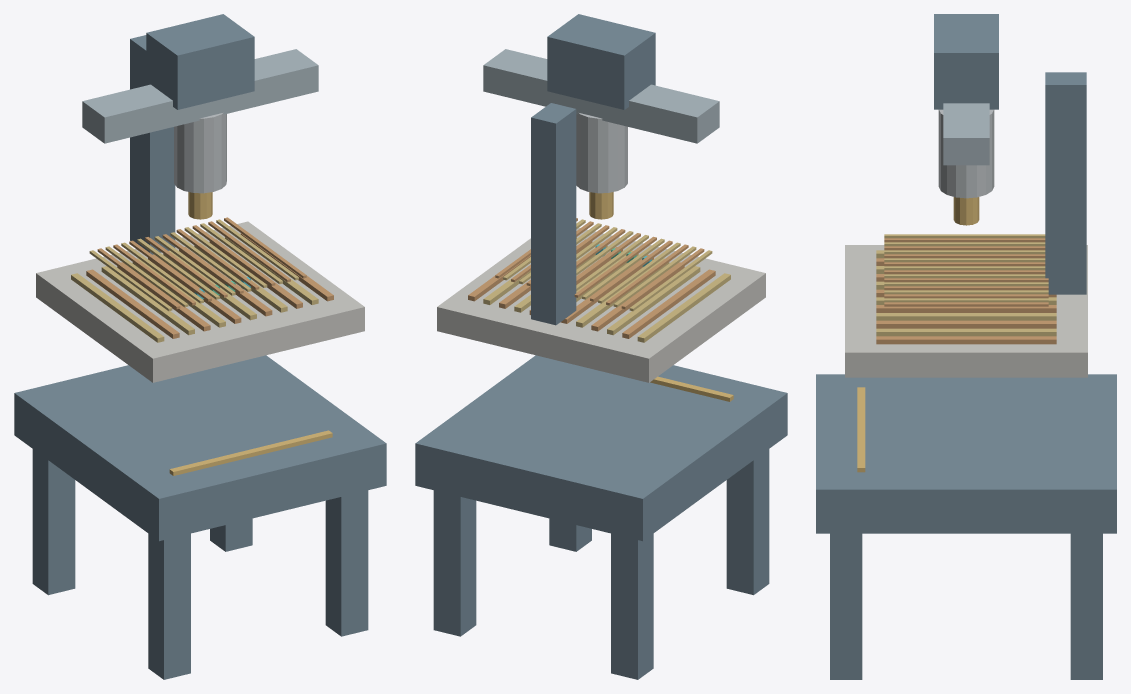
File: 50_L78_InterlineCombTestFixture.glb
3 views of the same model, side by side, from view 1: azimuth 30°, elevation 25°; view 2: azimuth 150°, elevation 25°; view 3: azimuth 270°, elevation 25° (orthographic). The views are drawn at different scales.
Parts seen in each view (by area): view 1: InterlineCombTestFixture_Node_0000, InterlineCombTestFixture_Node_0006, InterlineCombTestFixture_Node_0041, InterlineCombTestFixture_Node_0020, InterlineCombTestFixture_Node_0004, InterlineCombTestFixture_Node_0002, InterlineCombTestFixture_Node_0019, InterlineCombTestFixture_Node_0001, InterlineCombTestFixture_Node_0021, InterlineCombTestFixture_Node_0005, InterlineCombTestFixture_Node_0003, InterlineCombTestFixture_Node_0007 (+10 smaller); view 2: InterlineCombTestFixture_Node_0000, InterlineCombTestFixture_Node_0006, InterlineCombTestFixture_Node_0019, InterlineCombTestFixture_Node_0041, InterlineCombTestFixture_Node_0020, InterlineCombTestFixture_Node_0003, InterlineCombTestFixture_Node_0001, InterlineCombTestFixture_Node_0002, InterlineCombTestFixture_Node_0021, InterlineCombTestFixture_Node_0004, InterlineCombTestFixture_Node_0007, InterlineCombTestFixture_Node_0008 (+5 smaller); view 3: InterlineCombTestFixture_Node_0000, InterlineCombTestFixture_Node_0006, InterlineCombTestFixture_Node_0019, InterlineCombTestFixture_Node_0041, InterlineCombTestFixture_Node_0003, InterlineCombTestFixture_Node_0004, InterlineCombTestFixture_Node_0020, InterlineCombTestFixture_Node_0021, InterlineCombTestFixture_Node_0016, InterlineCombTestFixture_Node_0017, InterlineCombTestFixture_Node_0018, InterlineCombTestFixture_Node_0015 (+21 smaller).
Boxes of the visible parts, <box> form: InterlineCombTestFixture_Node_0000: <box>14,355,386,541</box>; InterlineCombTestFixture_Node_0006: <box>36,221,364,382</box>; InterlineCombTestFixture_Node_0041: <box>146,14,254,109</box>; InterlineCombTestFixture_Node_0020: <box>82,49,318,143</box>; InterlineCombTestFixture_Node_0004: <box>325,490,368,636</box>; InterlineCombTestFixture_Node_0002: <box>148,533,190,679</box>; InterlineCombTestFixture_Node_0019: <box>130,35,175,254</box>; InterlineCombTestFixture_Node_0001: <box>32,449,75,595</box>; InterlineCombTestFixture_Node_0021: <box>174,112,226,193</box>; InterlineCombTestFixture_Node_0005: <box>169,430,332,475</box>; InterlineCombTestFixture_Node_0003: <box>210,518,252,551</box>; InterlineCombTestFixture_Node_0007: <box>71,273,164,342</box>; InterlineCombTestFixture_Node_0000: <box>415,355,787,541</box>; InterlineCombTestFixture_Node_0006: <box>437,227,765,382</box>; InterlineCombTestFixture_Node_0019: <box>531,103,576,325</box>; InterlineCombTestFixture_Node_0041: <box>547,14,655,109</box>; InterlineCombTestFixture_Node_0020: <box>483,49,719,143</box>; InterlineCombTestFixture_Node_0003: <box>433,490,476,636</box>; InterlineCombTestFixture_Node_0001: <box>611,533,653,679</box>; InterlineCombTestFixture_Node_0002: <box>726,449,769,595</box>; InterlineCombTestFixture_Node_0021: <box>576,112,627,193</box>; InterlineCombTestFixture_Node_0004: <box>549,518,591,551</box>; InterlineCombTestFixture_Node_0007: <box>637,273,730,342</box>; InterlineCombTestFixture_Node_0008: <box>622,269,715,338</box>; InterlineCombTestFixture_Node_0000: <box>816,374,1116,533</box>; InterlineCombTestFixture_Node_0006: <box>845,245,1087,377</box>; InterlineCombTestFixture_Node_0019: <box>1045,72,1086,294</box>; InterlineCombTestFixture_Node_0041: <box>934,14,998,109</box>; InterlineCombTestFixture_Node_0003: <box>1070,533,1102,679</box>; InterlineCombTestFixture_Node_0004: <box>830,533,862,679</box>; InterlineCombTestFixture_Node_0020: <box>943,103,989,165</box>; InterlineCombTestFixture_Node_0021: <box>938,109,994,198</box>; InterlineCombTestFixture_Node_0016: <box>876,320,1056,328</box>; InterlineCombTestFixture_Node_0017: <box>876,328,1056,336</box>; InterlineCombTestFixture_Node_0018: <box>876,336,1056,344</box>; InterlineCombTestFixture_Node_0015: <box>876,313,1056,320</box>.
Bounding box in the file's own units: 1.18 × 2.84 × 1.3.
